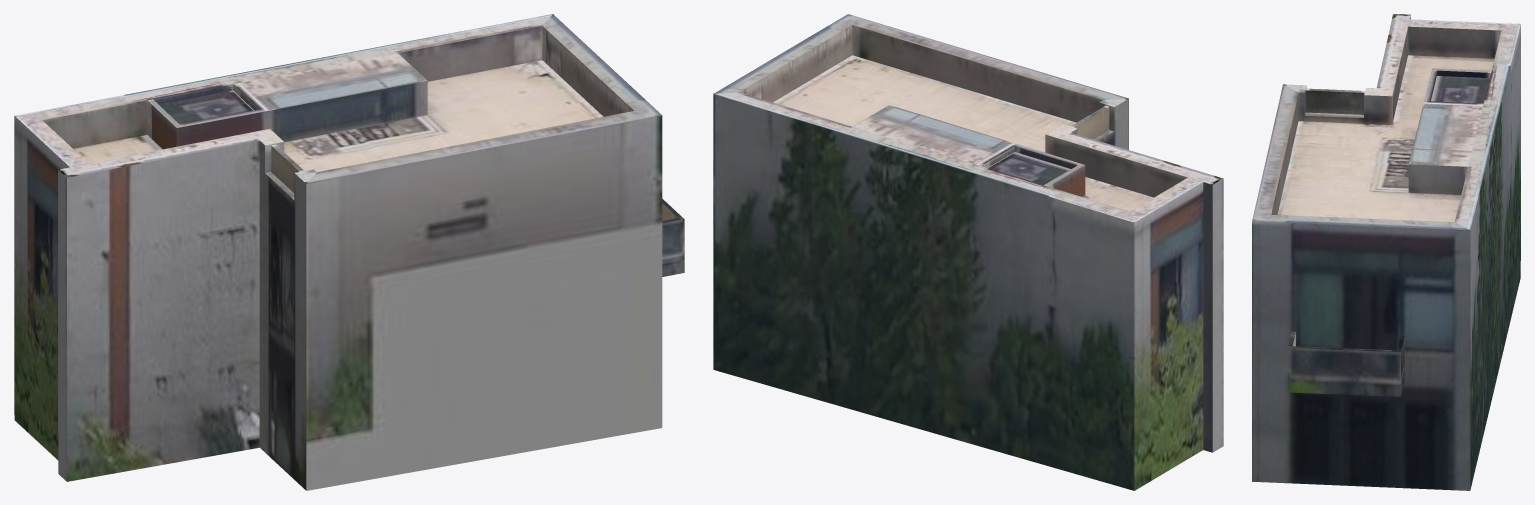
3 views of the same model, side by side, from view 1: azimuth 30°, elevation 25°; view 2: azimuth 150°, elevation 25°; view 3: azimuth 270°, elevation 25° (orthographic). The views are drawn at different scales.
Visible parts, largest first — view 1: B286384036701062A0; view 2: B286384036701062A0; view 3: B286384036701062A0.
Part boxes in pixels (box(x1,y1,x2,y2)): B286384036701062A0: box(14, 14, 684, 490); B286384036701062A0: box(713, 14, 1223, 490); B286384036701062A0: box(1252, 14, 1520, 490).
Bounding box in the file's own units: 16.45 × 8.7 × 8.13.
1 material, 1 textured.
